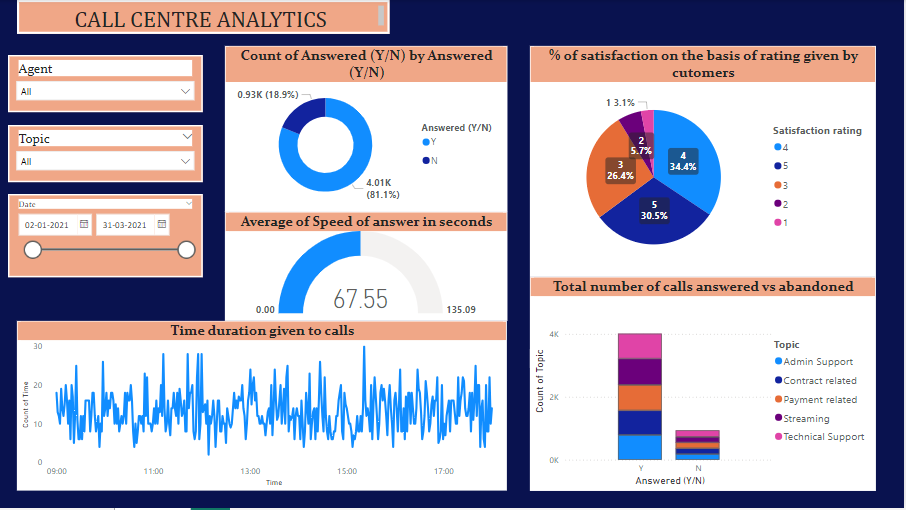

The dashboard page shown, as its layout file describes it:
{"tool":"powerbi","page":{"name":"Page 1","canvas":[1280,720],"ordinal":0},"visuals":[{"type":"textbox","box":[24,0,528,48],"z":0},{"type":"pieChart","title":"% of satisfaction on the basis of rating given by cutomers","fields":{"Category":["Sheet1.Satisfaction rating"],"Y":["Sum(Sheet1.Satisfaction rating)"]},"box":[750.7,65.7,489.6,326.9],"z":1000},{"type":"columnChart","title":"Total number of calls answered vs abandoned","fields":{"Category":["Sheet1.Answered (Y/N)"],"Y":["CountNonNull(Sheet1.Topic)"],"Series":["Sheet1.Topic"]},"box":[750.7,392.5,489.6,303],"z":2000},{"type":"lineChart","title":"Time duration given to calls","fields":{"Category":["Sheet1.Time"],"Y":["CountNonNull(Sheet1.Time)"]},"box":[23.9,455.2,694,240.3],"z":3000},{"type":"slicer","fields":{"Values":["Sheet1.Agent"]},"box":[11.9,77.6,265.7,80.6],"z":4000},{"type":"slicer","fields":{"Values":["Sheet1.Topic"]},"box":[11.9,177.6,265.7,80.6],"z":5000},{"type":"slicer","fields":{"Values":["Sheet1.Date"]},"box":[11.9,274.6,265.7,103],"z":6000},{"type":"gauge","fields":{"Y":["Avg(Sheet1.Speed of answer in seconds)"]},"box":[344.8,300,373.1,155.2],"z":7000},{"type":"donutChart","fields":{"Y":["CountNonNull(Sheet1.Answered (Y/N))"],"Category":["Sheet1.Answered (Y/N)"]},"box":[344.8,65.7,373.1,234.3],"z":8000}]}

Visuals, with their boxes in screenshot pixels (x1, y1, x2, y2), scaled from the page's 1280x720 canvas onto the 906x510 screenshot:
textbox: bbox=(17, 0, 391, 34)
"% of satisfaction on the basis of rating given by cutomers" pieChart: bbox=(531, 47, 878, 278)
"Total number of calls answered vs abandoned" columnChart: bbox=(531, 278, 878, 493)
"Time duration given to calls" lineChart: bbox=(17, 322, 508, 493)
slicer - Sheet1.Agent: bbox=(8, 55, 196, 112)
slicer - Sheet1.Topic: bbox=(8, 126, 196, 183)
slicer - Sheet1.Date: bbox=(8, 195, 196, 267)
gauge - Avg(Sheet1.Speed of answer in seconds): bbox=(244, 212, 508, 322)
donutChart - CountNonNull(Sheet1.Answered (Y/N)) x Sheet1.Answered (Y/N): bbox=(244, 47, 508, 212)
